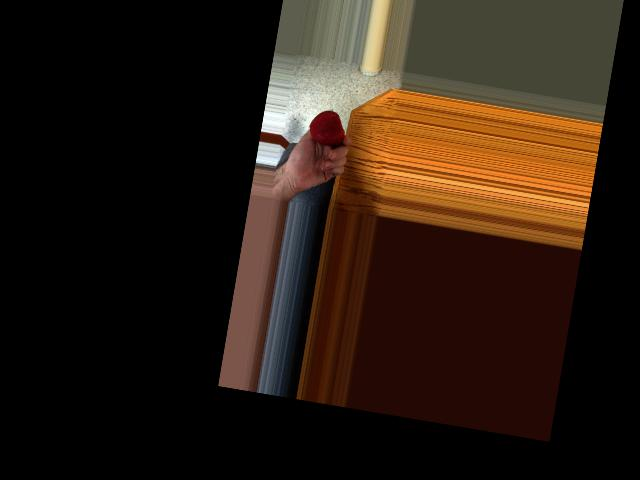apple: (306, 106, 348, 148)
